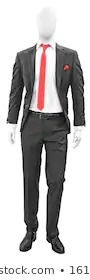F_M_suit jacket: (5, 44, 88, 126)
F_dress pants: (20, 106, 70, 238)
F_tie: (39, 42, 50, 112)
